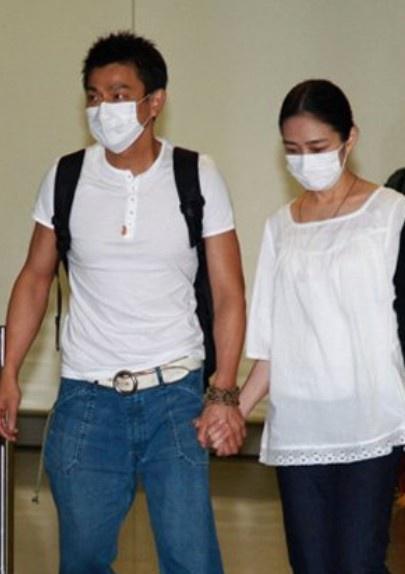OK: (81, 79, 152, 150), (282, 134, 341, 193)
